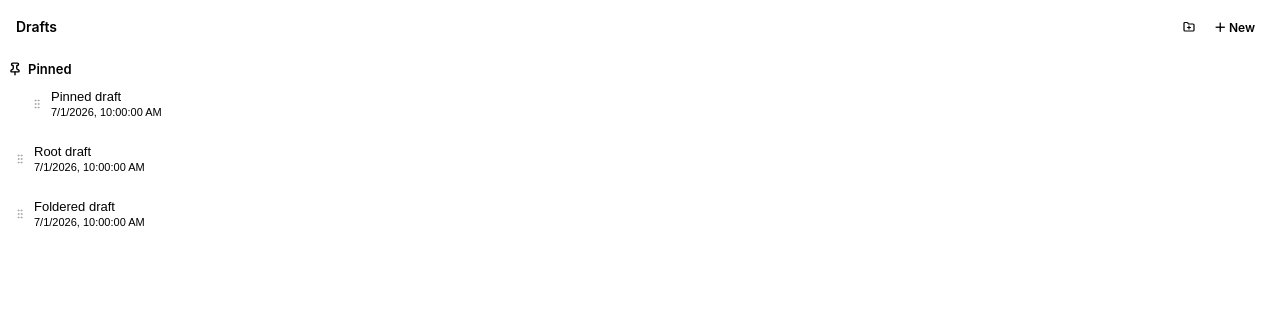
Test: DraftsRail › creates a folder via the API and lets the user name it inline
The image size is (1280, 310).
Click the button named "New folder" at (1189, 26), box [1177, 14, 1201, 38]
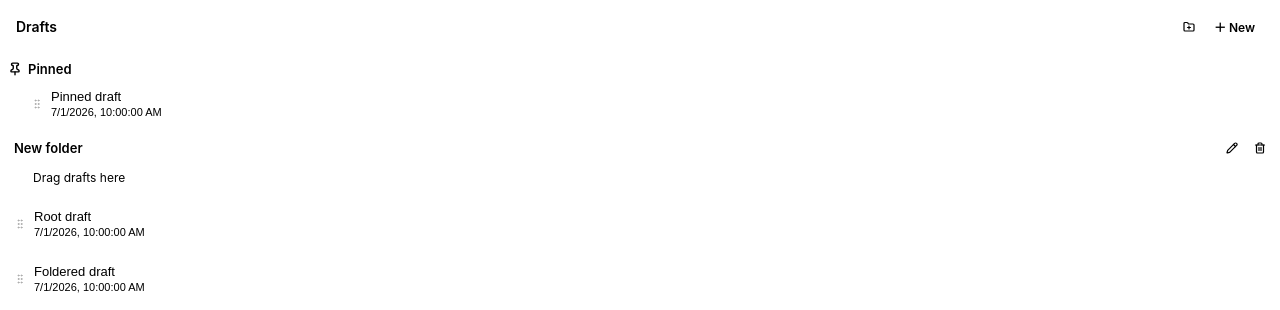
Replace the text in the field named "Folder name" with "Ideas" at (610, 148), box [8, 138, 1212, 158]
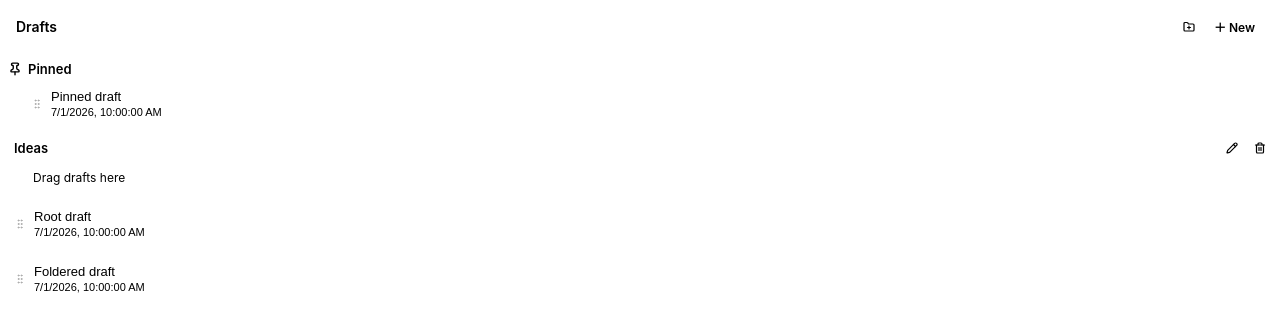
Leave the field named "Folder name", box [8, 138, 1212, 158]
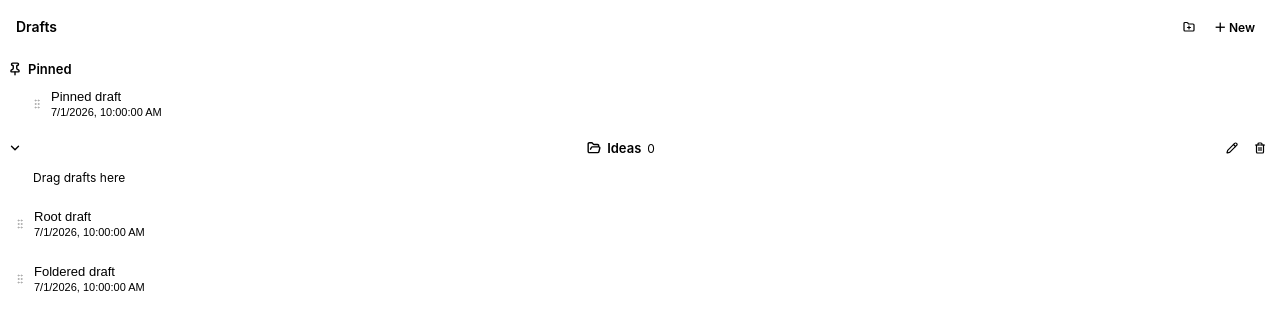
Expected: the text "Ideas" is shown, [607, 140, 641, 156]
